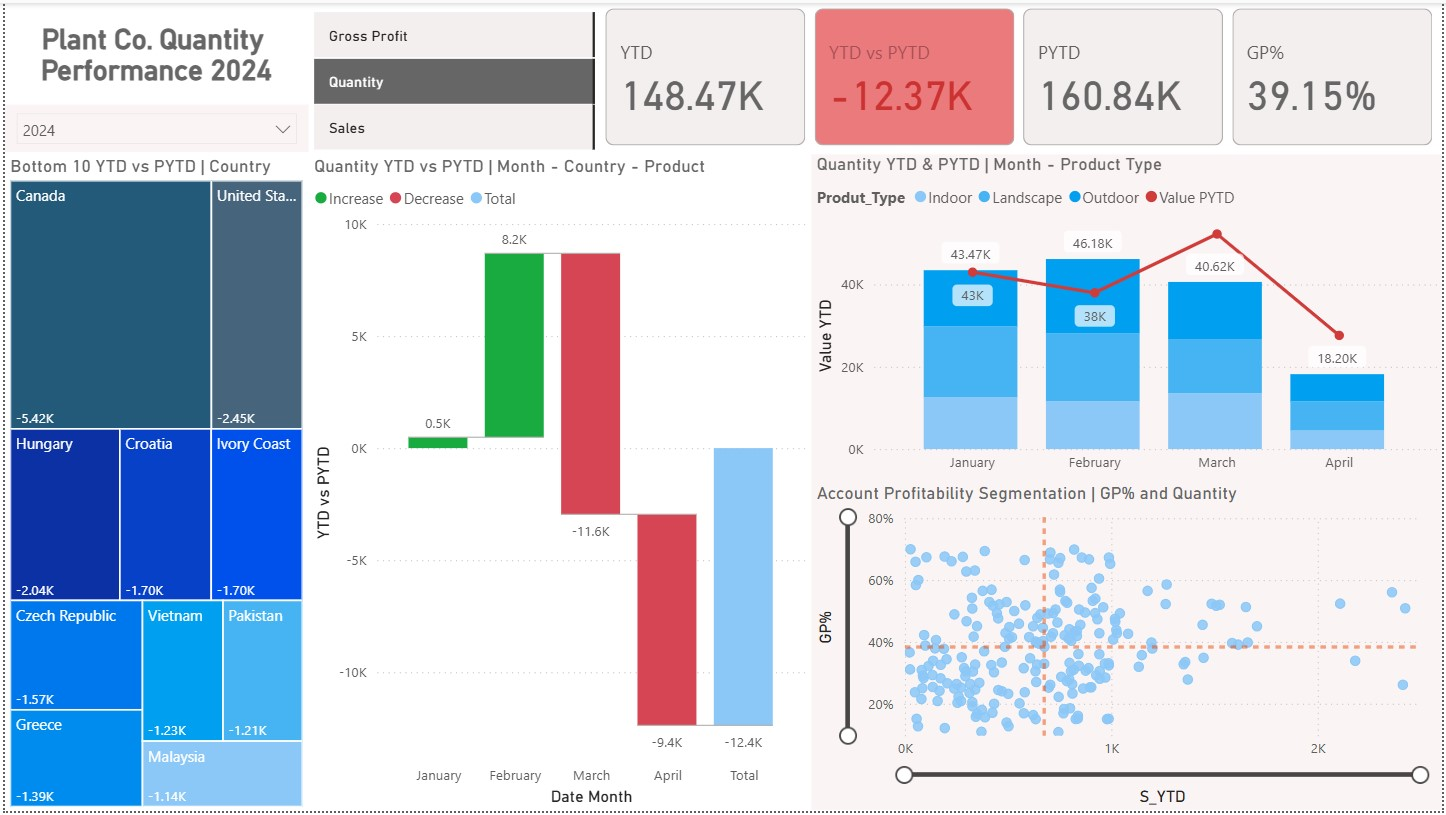

This screenshot's page, from the dashboard's own definition file:
{"tool":"powerbi","page":{"name":"Page 1","canvas":[1280,720],"ordinal":0},"visuals":[{"type":"shape","box":[0,0,1280,132.5],"z":0},{"type":"cardVisual","fields":{"Data":["_Mesures.S_YTD","_Mesures.YTD vs PYTD","_Mesures.S_PYTD","_Mesures.GP%"]},"box":[530,0,748.8,132.5],"z":1000},{"type":"advancedSlicerVisual","fields":{"Values":["Slc_Values.Values"]},"box":[270,3.8,260,132.5],"z":2000},{"type":"slicer","fields":{"Values":["Dim_Date.Date.Variation.Date Hierarchy.Year"]},"box":[0,87.5,270,45],"z":3000},{"type":"treemap","title":"Bottom 10 YTD vs PYTD | Country","fields":{"Values":["_Mesures.YTD vs PYTD"],"Group":["Dim_Accounts.country"]},"box":[0,136.2,270,585],"z":4000},{"type":"waterfallChart","fields":{"Y":["_Mesures.YTD vs PYTD"],"Category":["Dim_Date.Date.Variation.Date Hierarchy.Month","Dim_Accounts.country","Dim_Product.Produt_Type","Dim_Product.Product_Name_id"]},"box":[270,136.2,447.5,583.8],"z":5000},{"type":"lineStackedColumnComboChart","fields":{"Category":["Dim_Date.Date.Variation.Date Hierarchy.Quarter","Dim_Date.Date.Variation.Date Hierarchy.Month"],"Y":["_Mesures.S_YTD"],"Y2":["_Mesures.S_PYTD"],"Series":["Dim_Product.Produt_Type"]},"box":[717.5,135,562.5,292.5],"z":6000},{"type":"scatterChart","fields":{"Y":["_Mesures.GP%"],"X":["_Mesures.S_YTD"],"Category":["Dim_Accounts.Account"]},"box":[717.5,427.5,562.5,291.2],"z":7000},{"type":"card","fields":{"Values":["_Mesures._Report title"]},"box":[0,0,270,90],"z":8000}]}

Visuals, with their boxes in screenshot pixels (x1, y1, x2, y2), scaled from the page's 1280x720 canvas onto the 1446x815 screenshot:
shape: 0, 0, 1445, 150
cardVisual - _Mesures.S_YTD x _Mesures.YTD vs PYTD: 599, 0, 1445, 150
advancedSlicerVisual - Slc_Values.Values: 305, 4, 599, 154
slicer - Dim_Date.Date.Variation.Date Hierarchy.Year: 0, 99, 305, 150
"Bottom 10 YTD vs PYTD | Country" treemap: 0, 154, 305, 814
waterfallChart - _Mesures.YTD vs PYTD x Dim_Date.Date.Variation.Date Hierarchy.Month: 305, 154, 811, 814
lineStackedColumnComboChart - Dim_Date.Date.Variation.Date Hierarchy.Quarter x Dim_Date.Date.Variation.Date Hierarchy.Month: 811, 153, 1445, 484
scatterChart - _Mesures.GP% x _Mesures.S_YTD: 811, 484, 1445, 814
card - _Mesures._Report title: 0, 0, 305, 102
